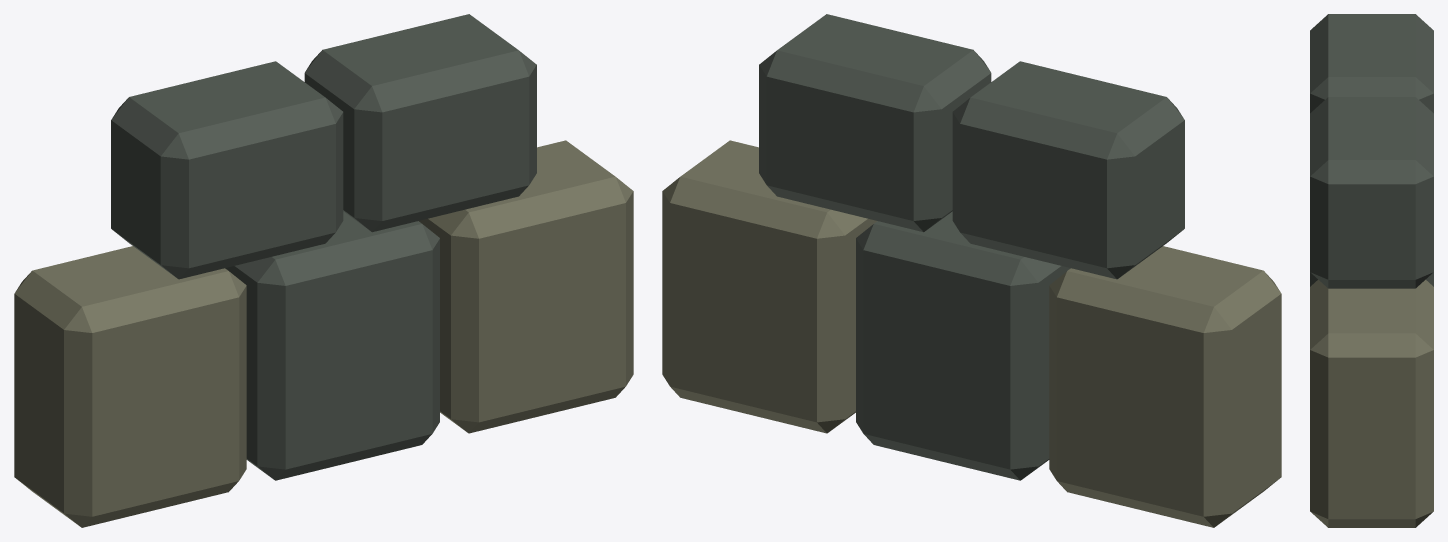
Rendered from SM_ENV_Ruin_01_WallTall.glb.
3 views of the same model, side by side, from view 1: azimuth 30°, elevation 25°; view 2: azimuth 150°, elevation 25°; view 3: azimuth 270°, elevation 25° (orthographic). The views are drawn at different scales.
Parts seen in each view (by area): view 1: SM_ENV_Ruin_01_WallTall; view 2: SM_ENV_Ruin_01_WallTall; view 3: SM_ENV_Ruin_01_WallTall.
Boxes of the visible parts, x1=… form: SM_ENV_Ruin_01_WallTall: x1=14, y1=14, x2=633, y2=527; SM_ENV_Ruin_01_WallTall: x1=662, y1=14, x2=1281, y2=527; SM_ENV_Ruin_01_WallTall: x1=1310, y1=14, x2=1433, y2=527.
Size of the model in its own units: 1.59 by 0.99 by 0.34.
